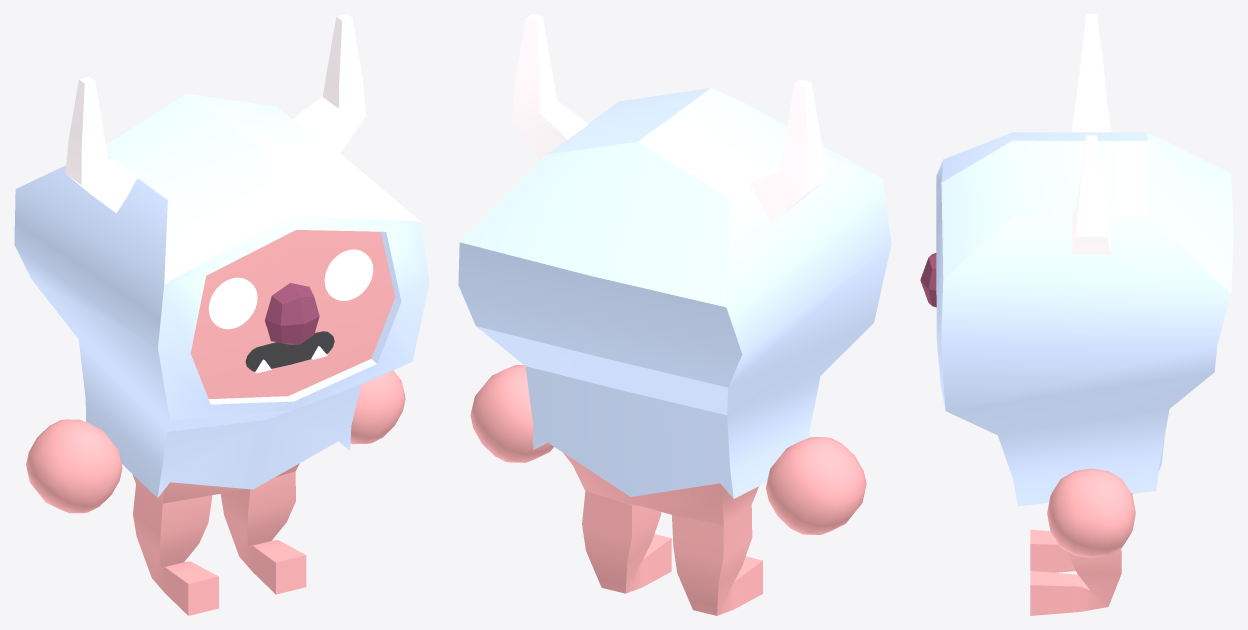
File: Monster.glb
3 renders of one model, left to right at view 1: azimuth 30°, elevation 25°; view 2: azimuth 150°, elevation 25°; view 3: azimuth 270°, elevation 25°, orthographic. The views are drawn at different scales.
Parts seen in each view (by area): view 1: monsterV1; view 2: monsterV1; view 3: monsterV1.
Boxes of the visible parts, x1,y1,x2,y2 form: monsterV1: (14, 14, 429, 615); monsterV1: (458, 14, 891, 615); monsterV1: (920, 14, 1233, 615).
Bounding box in the file's own units: 6.41 × 8.89 × 4.94.
